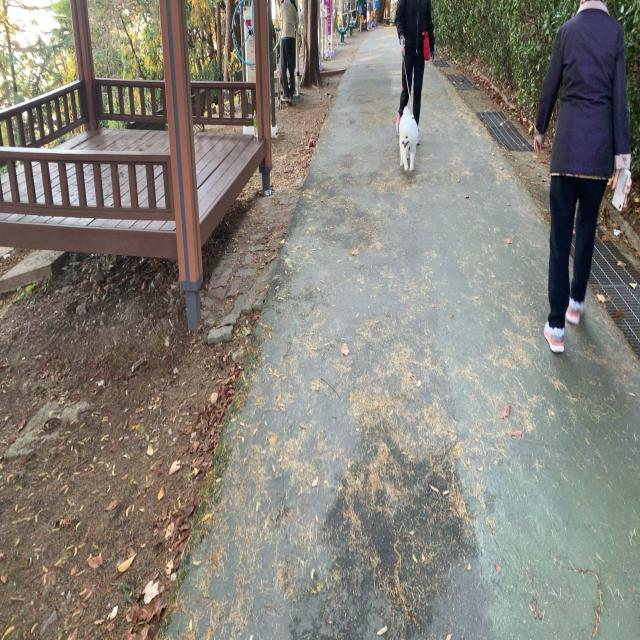Leashed_Dog: (396, 34, 420, 171)
